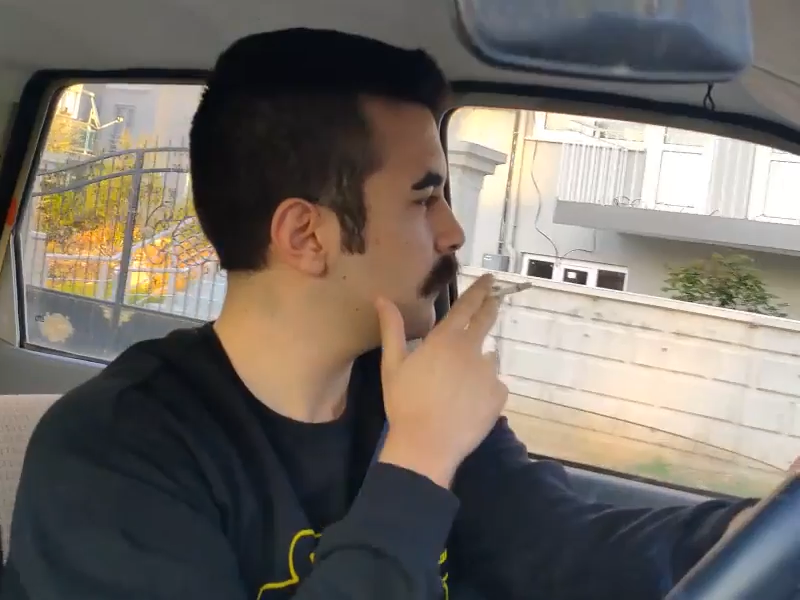sigara: (481, 273, 540, 303)
